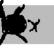not correct: (0, 0, 41, 45)
